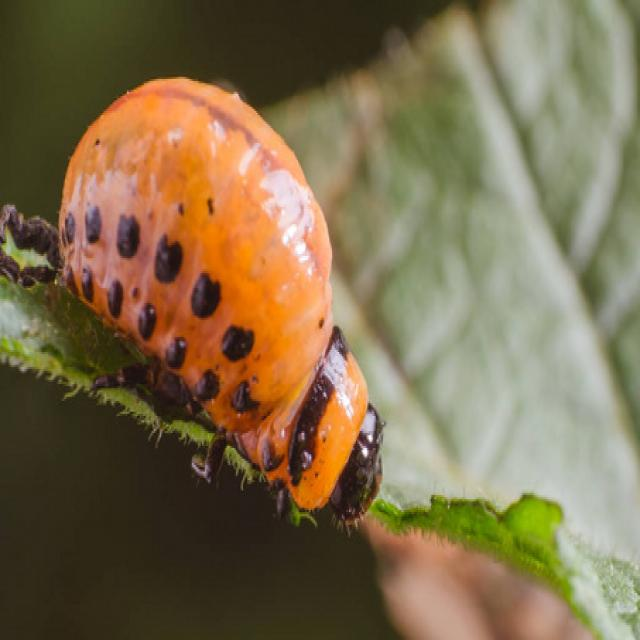ShuCaiHuaBanChong-Larva-: (51, 59, 402, 542)
